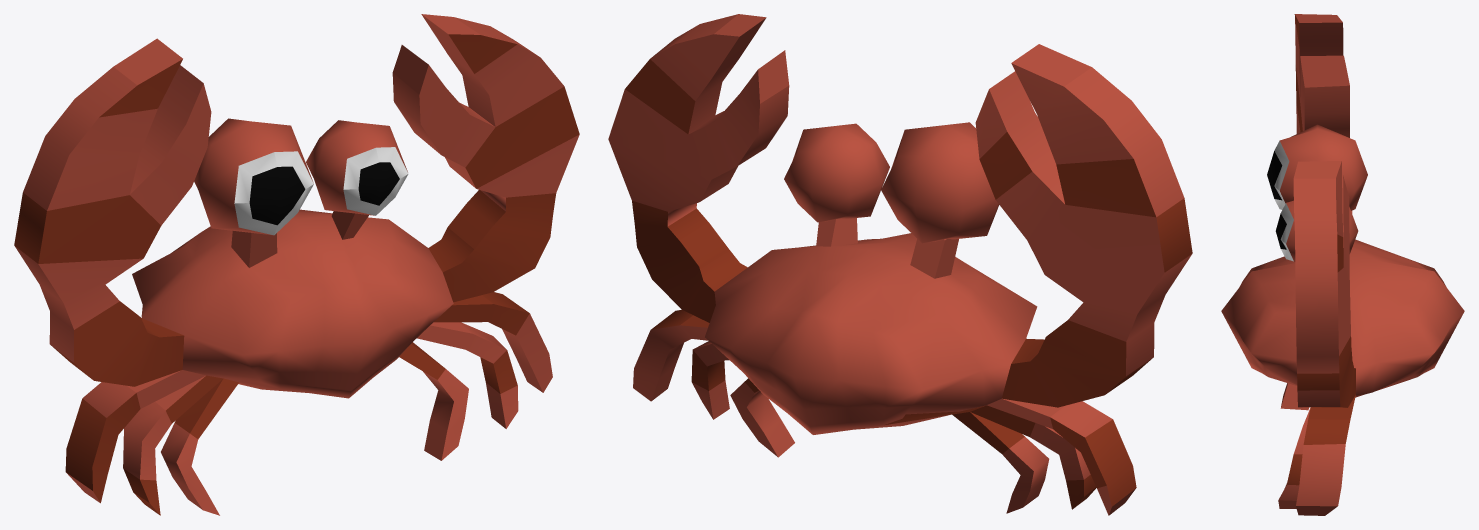
Rendered from Crab.fbx.
The picture shows the model from 3 angles, left to right: view 1: azimuth 30°, elevation 25°; view 2: azimuth 150°, elevation 25°; view 3: azimuth 270°, elevation 25°; orthographic projection. The views are drawn at different scales.
Parts seen in each view (by area): view 1: Crab; view 2: Crab; view 3: Crab.
Boxes of the visible parts, x1,y1,x2,y2 form: Crab: (14, 14, 579, 515); Crab: (608, 14, 1192, 515); Crab: (1221, 14, 1464, 515).
Bounding box in the file's own units: 175 × 142 × 82.86.
